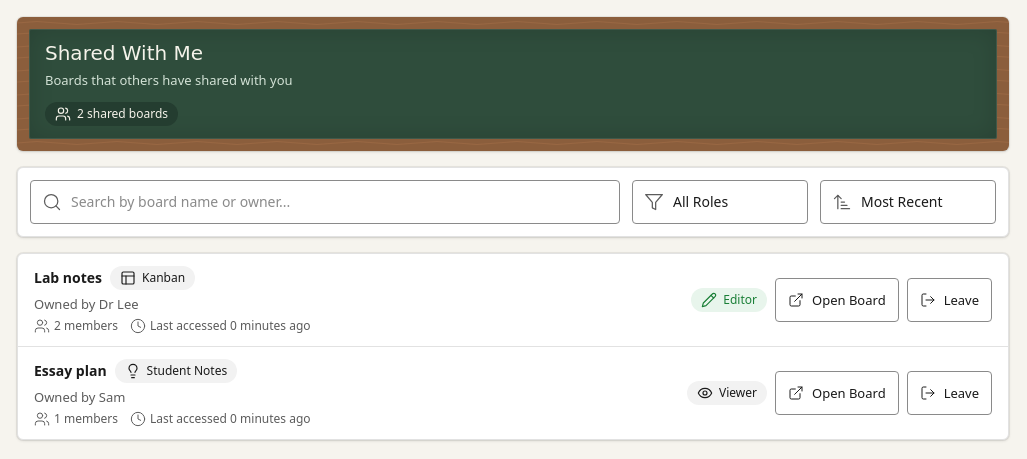
it: SharedPage › the role filter narrows the list and an empty filter shows the matching empty note
This screenshot has width=1027, height=459.
expect the heading "Lab notes" is shown: met, box [34,268,102,288]
Step 1. Select "Commenter" in the 1st dropdown named "Filter by role" → x=720, y=202, box [632,180,808,224]
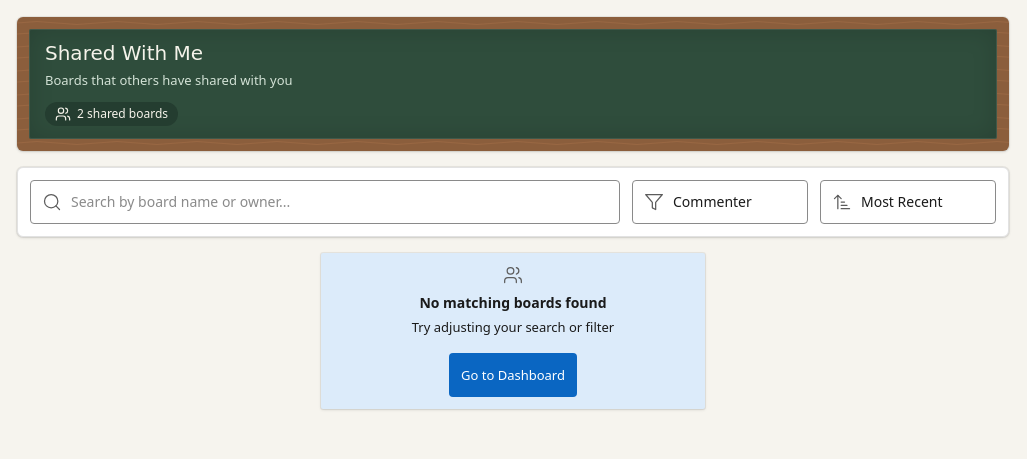
expect the heading "No matching boards found" is shown: met, box [419,293,607,313]
expect the heading "Lab notes" is gone: met
